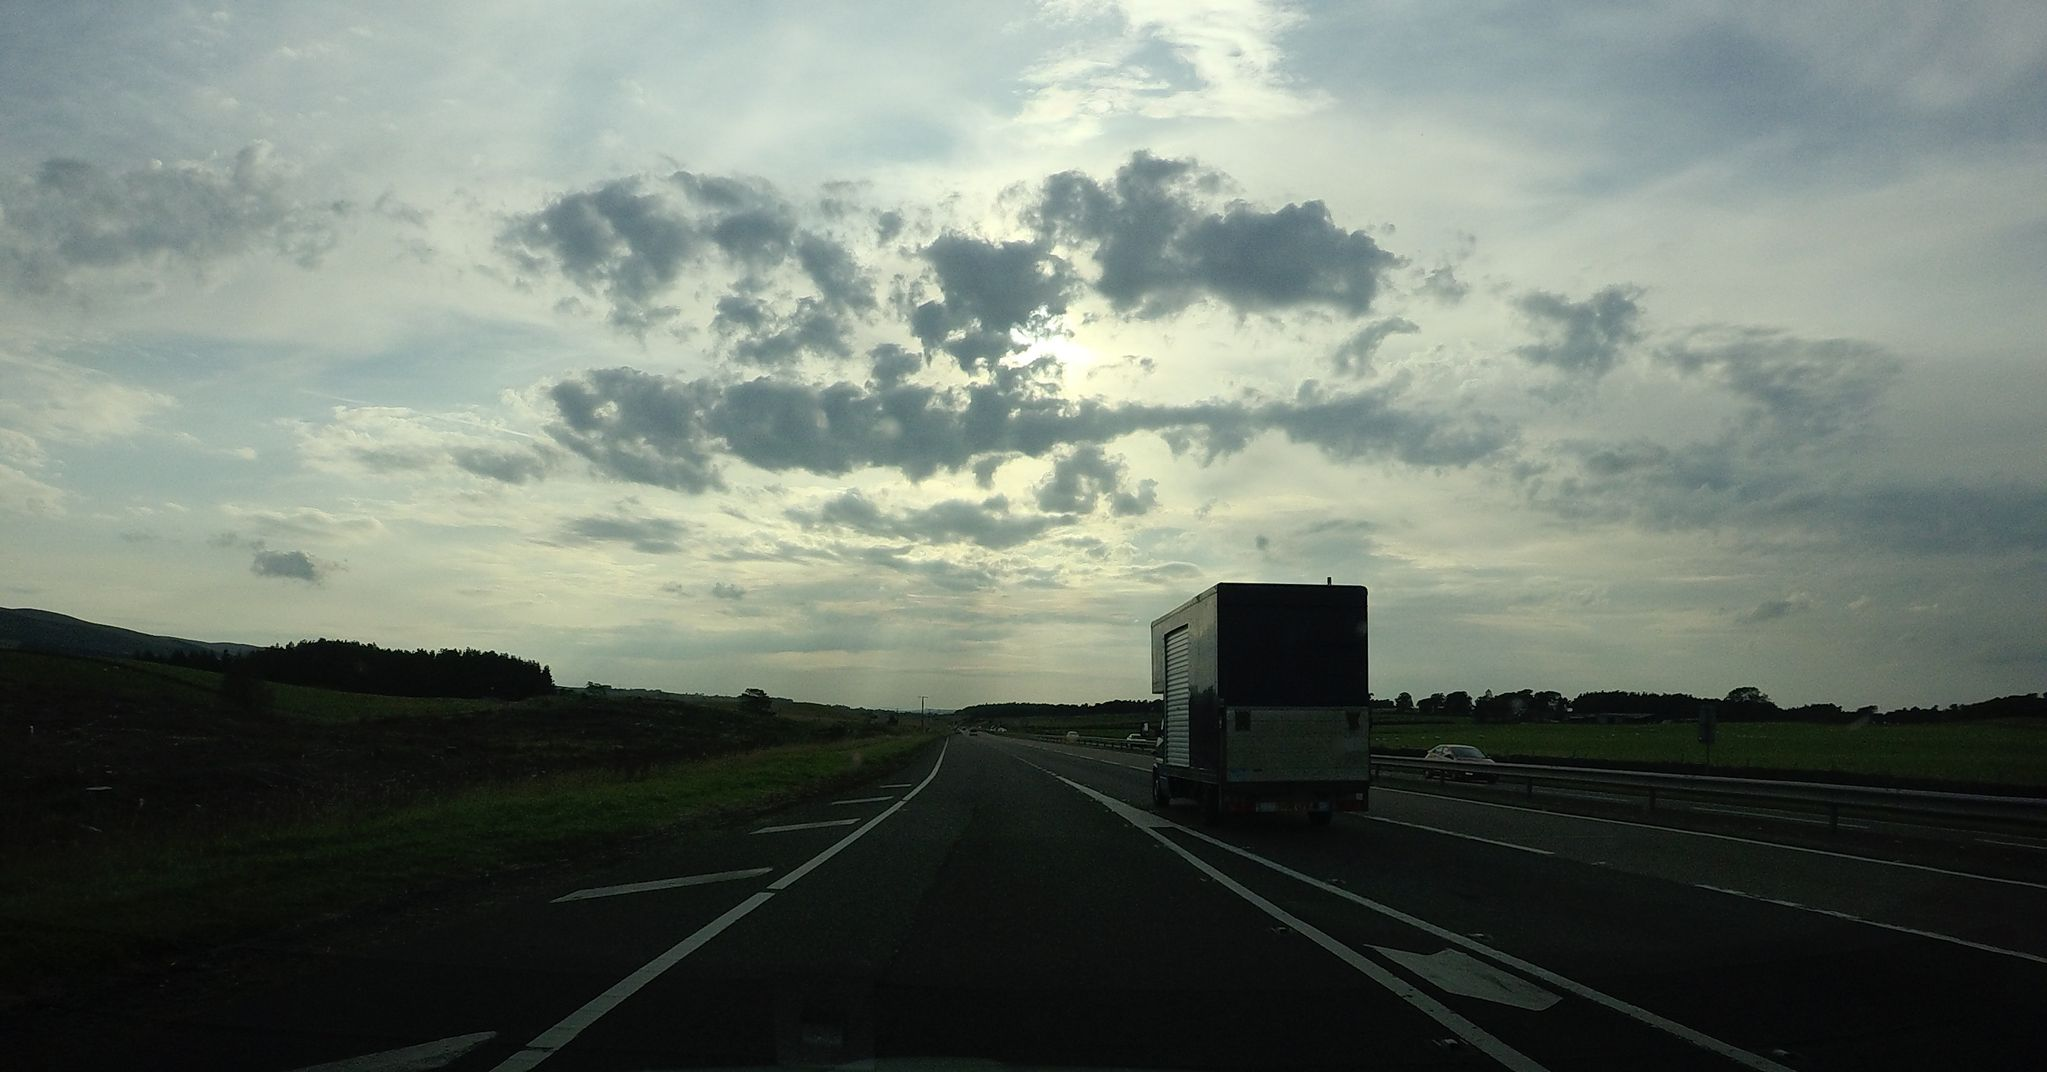car: (1422, 743, 1497, 782)
truck: (1149, 577, 1373, 826)
